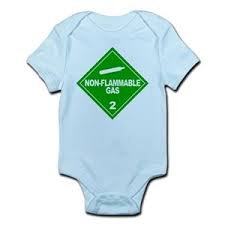NonFlammableGas: (76, 48, 149, 120)
